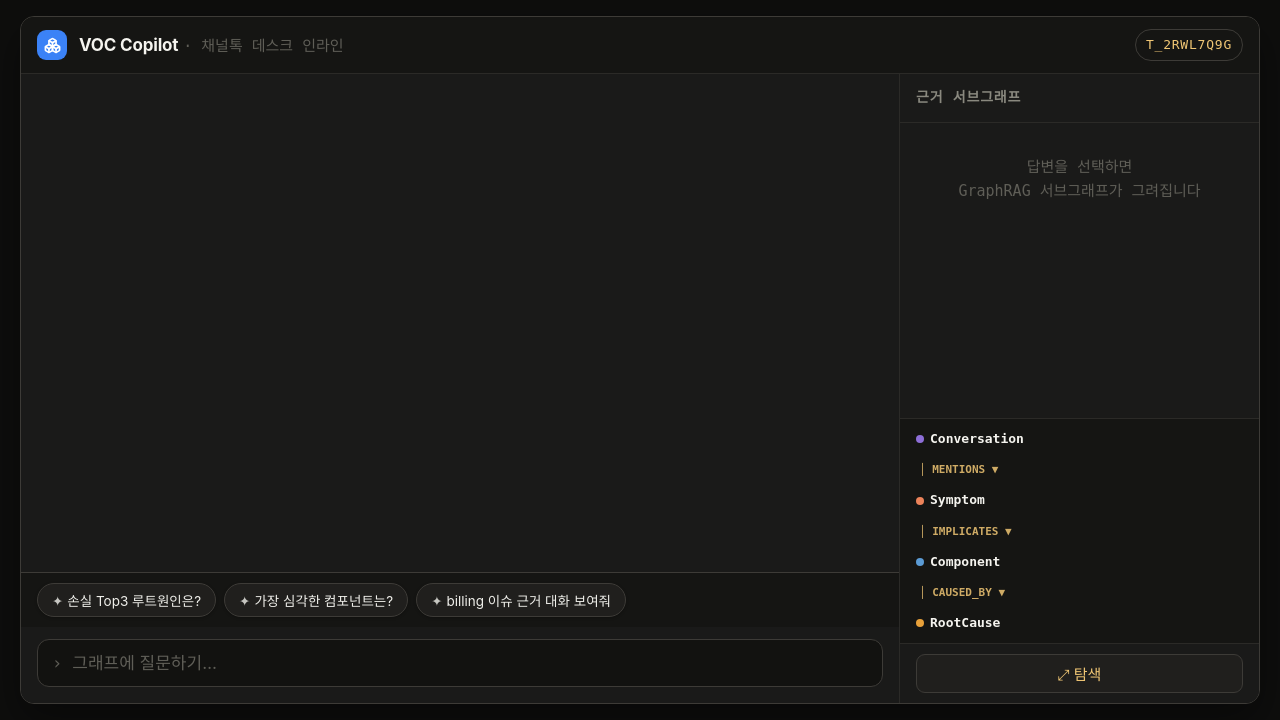
App › should show the approval card when the latest response carries interrupt_payload
Type "손실 Top 루트원인 조치해줘" into the field with placeholder "그래프에 질문하기…" at (469, 663), box [70,652,868,674]
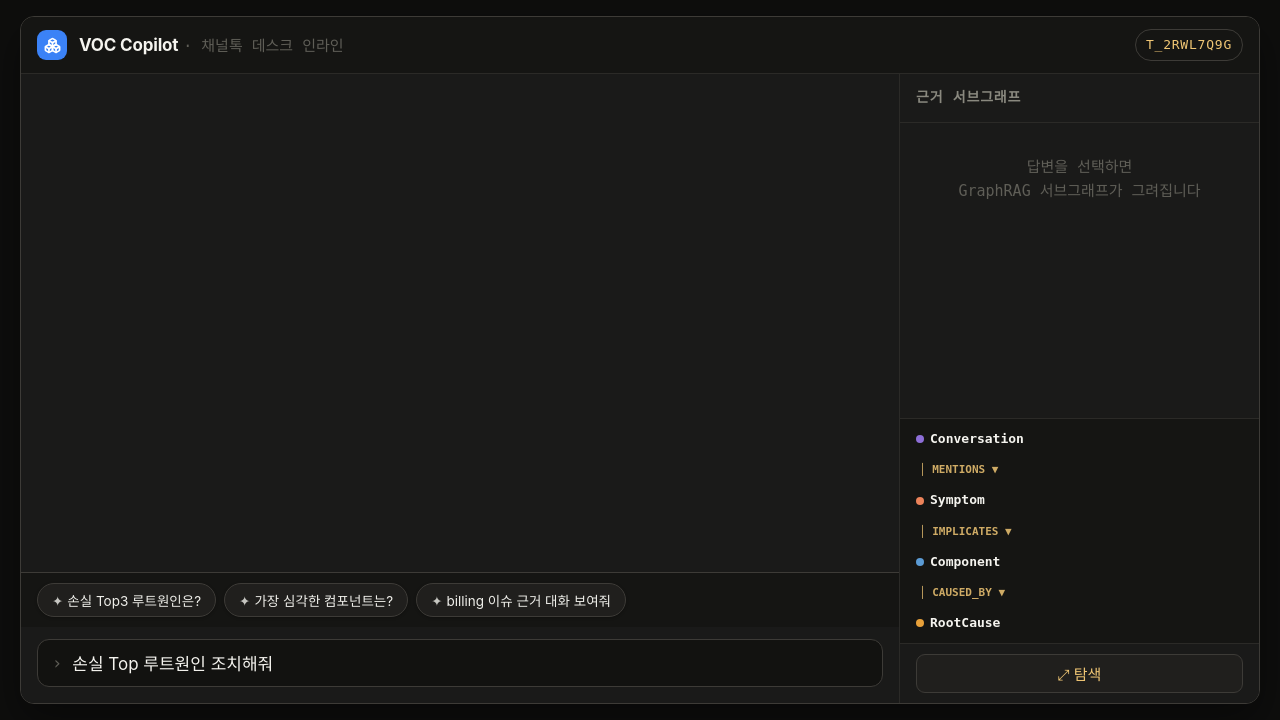
Submit the form with placeholder "질문", box [21,627,899,703]
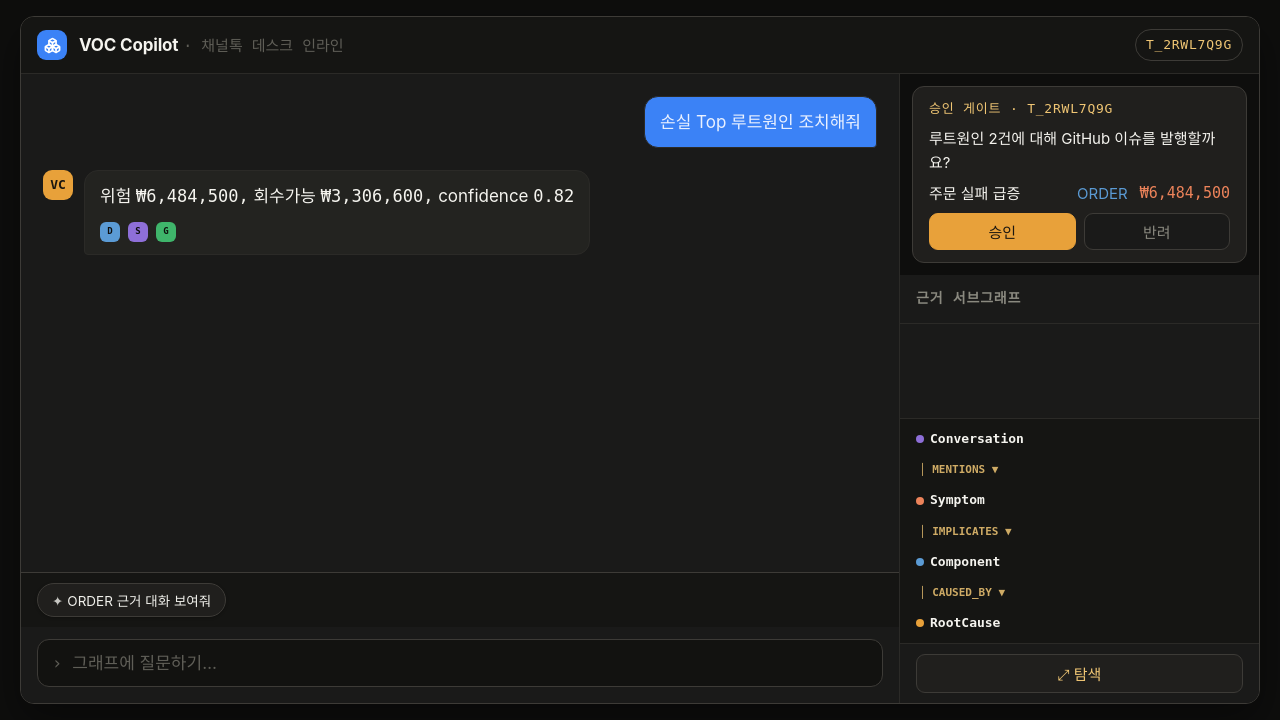
Now the element with test id "approval-card" is shown, box [912,86,1247,263]
Now the text "주문 실패 급증" is shown, box [929,184,1020,203]
